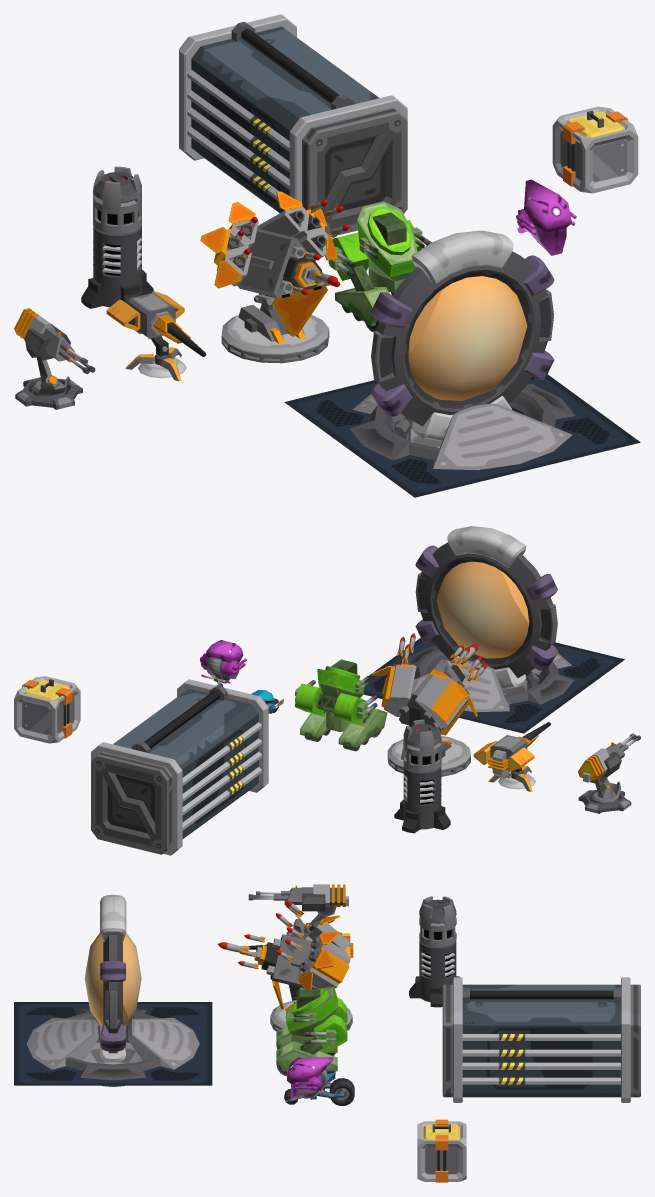
The model's file is props-combo_master.fbx.
The picture shows the model from 3 angles, top to bottom: view 1: azimuth 30°, elevation 25°; view 2: azimuth 150°, elevation 25°; view 3: azimuth 270°, elevation 25°; orthographic projection. The views are drawn at different scales.
Parts seen in each view (by area): view 1: crate_B, portal_base, portal_ring, portal_orb, turret_C_gun, enemy_C, canister, crate_A, turret_C_pivot, enemy_B, turret_B_pivot, turret_A_tilt (+5 smaller); view 2: crate_B, portal_ring, portal_base, portal_orb, enemy_C, turret_C_gun, canister, crate_A, turret_B_pivot, enemy_B, turret_C_pivot, turret_A_tilt (+4 smaller); view 3: crate_B, portal_base, turret_C_gun, enemy_C, portal_ring, canister, crate_A, portal_orb, enemy_B, turret_A_tilt, enemy_A, turret_A_gun.
Part boxes in pixels (x1,y1,x2,y2): crate_B: (179,14,407,236); portal_base: (284,374,640,497); portal_ring: (370,230,554,441); portal_orb: (407,276,527,400); turret_C_gun: (200,191,337,335); enemy_C: (328,201,431,332); canister: (81,166,153,308); crate_A: (552,106,638,193); turret_C_pivot: (221,293,328,353); enemy_B: (516,179,576,255); turret_B_pivot: (106,291,190,356); turret_A_tilt: (24,315,74,361); crate_B: (91,679,268,855); portal_ring: (415,526,557,689); portal_base: (363,638,624,733); portal_orb: (436,561,529,658); enemy_C: (295,659,387,751); turret_C_gun: (371,659,477,735); canister: (394,719,450,833); crate_A: (14,676,80,743); turret_B_pivot: (473,733,538,777); enemy_B: (200,640,246,683); turret_C_pivot: (387,736,470,769); turret_A_tilt: (589,742,624,784); crate_B: (442,977,640,1102); portal_base: (14,1002,212,1086); turret_C_gun: (254,915,350,1009); enemy_C: (276,986,347,1076); portal_ring: (100,894,126,1061); canister: (409,896,459,1007); crate_A: (417,1119,466,1182); portal_orb: (84,932,141,1026); enemy_B: (287,1057,333,1100); turret_A_tilt: (284,884,337,916); enemy_A: (284,1072,354,1105); turret_A_gun: (248,884,348,906).
Size of the model in its own units: 1218 by 387 by 1265.
